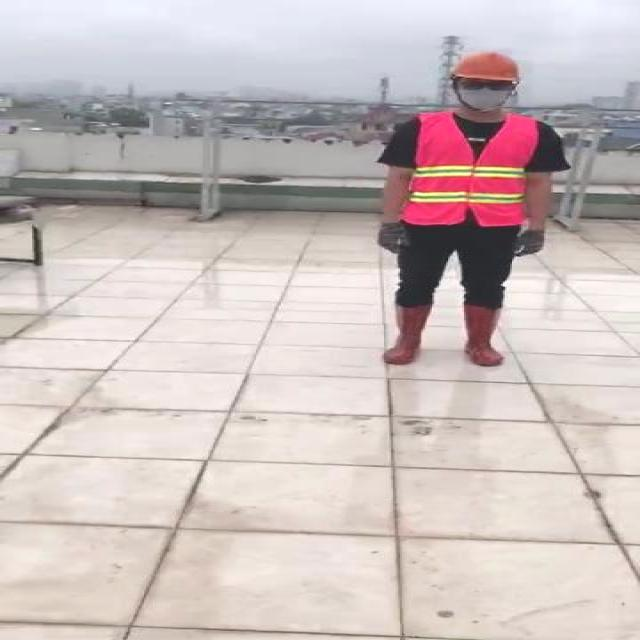boots: (380, 303, 434, 366), (458, 306, 506, 367)
face_mask: (454, 76, 515, 111)
glasses: (455, 76, 519, 92)
hand_glove: (508, 231, 548, 262), (377, 223, 409, 255)
head_helmet: (455, 50, 521, 80)
person: (368, 48, 560, 372)
vest: (404, 112, 540, 227)
